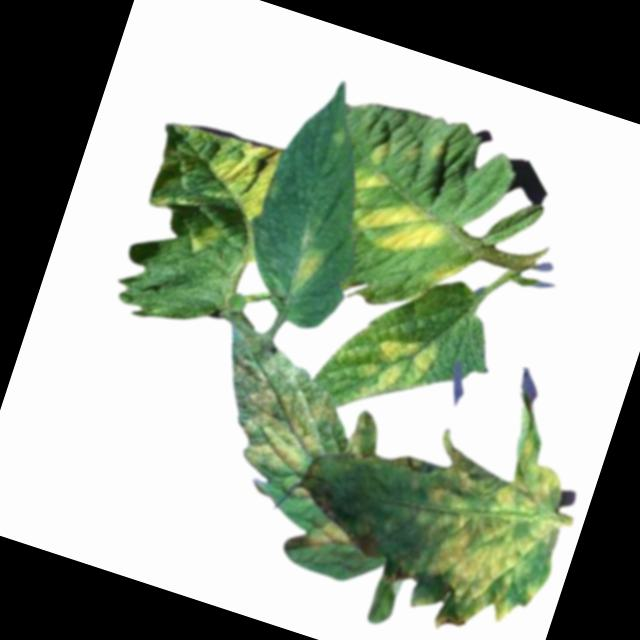Leaf_Mold: (390, 414, 583, 632), (211, 355, 347, 484), (350, 320, 448, 421), (196, 125, 286, 224), (353, 192, 452, 268), (346, 133, 403, 200), (342, 406, 387, 464), (305, 512, 357, 558), (286, 240, 327, 297), (185, 218, 224, 263)
